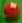red: (0, 0, 22, 23)
